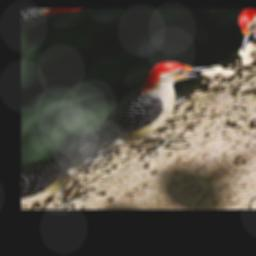Woodpecker: (58, 46, 256, 185)
